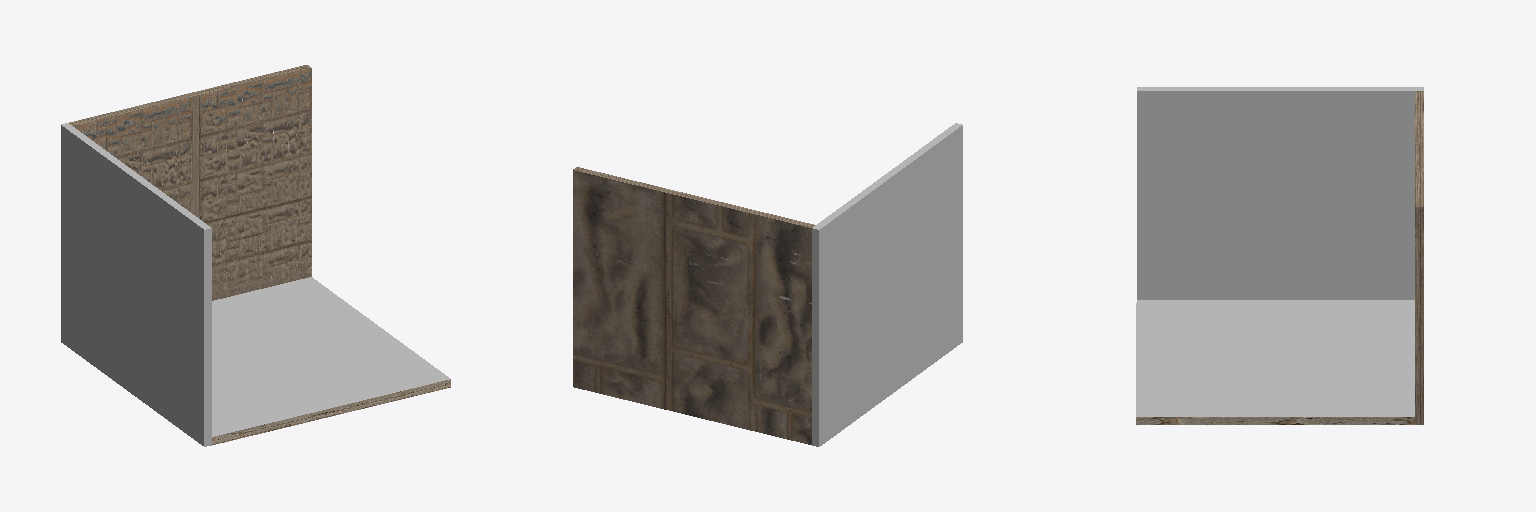
3 renders of one model, left to right at view 1: azimuth 30°, elevation 25°; view 2: azimuth 150°, elevation 25°; view 3: azimuth 270°, elevation 25°, orthographic.
Parts seen in each view (by area): view 1: leftwall, backwall, floor; view 2: backwall, leftwall; view 3: leftwall, floor, backwall.
Boxes of the visible parts, box(x1,y1,x2,y2) form: leftwall: box(61, 123, 211, 446); backwall: box(69, 65, 311, 300); floor: box(211, 277, 450, 445); backwall: box(573, 167, 815, 444); leftwall: box(812, 123, 962, 446); leftwall: box(1137, 87, 1423, 299); floor: box(1136, 300, 1414, 424); backwall: box(1415, 91, 1423, 424).
Size of the model in its own units: 10.56 by 8.9 by 10.68.
Materials: 8 (2 with a texture image).